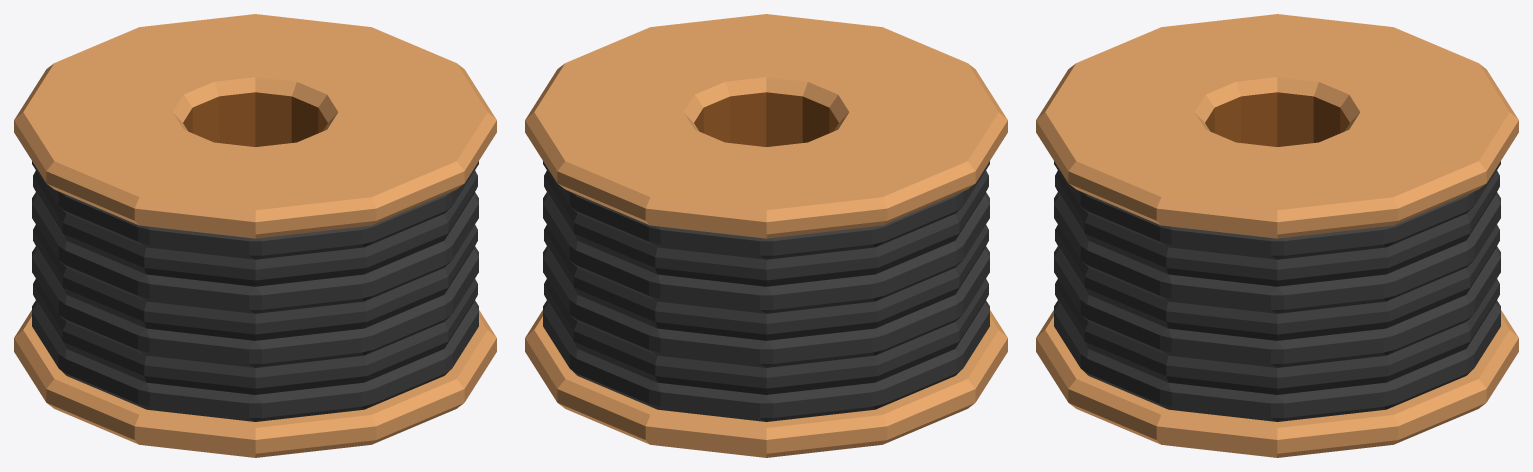
The model's file is Spool B.glb.
3 renders of one model, left to right at view 1: azimuth 30°, elevation 25°; view 2: azimuth 150°, elevation 25°; view 3: azimuth 270°, elevation 25°, orthographic.
Parts seen in each view (by area): view 1: Spool B; view 2: Spool B; view 3: Spool B.
Part boxes in pixels (box(x1,y1,x2,y2)): Spool B: box(14, 14, 496, 457); Spool B: box(525, 14, 1007, 457); Spool B: box(1036, 14, 1518, 457).
Size of the model in its own units: 199 by 113 by 199.
